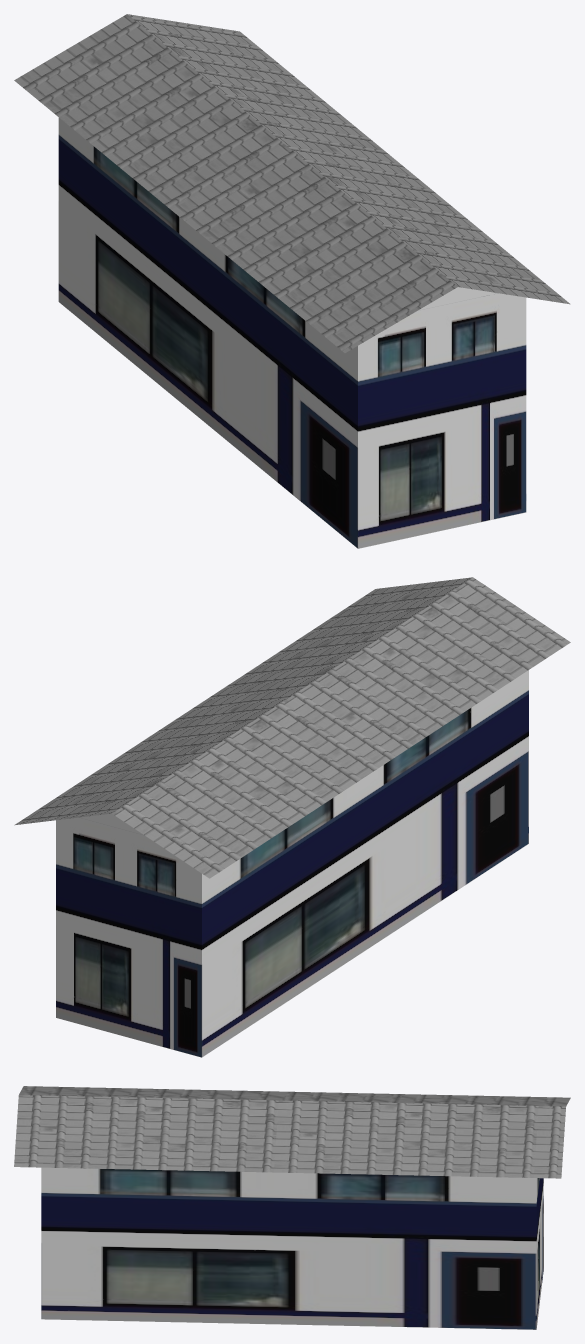
The picture shows the model from 3 angles, top to bottom: view 1: azimuth 30°, elevation 25°; view 2: azimuth 150°, elevation 25°; view 3: azimuth 270°, elevation 25°; orthographic projection. The views are drawn at different scales.
Visible parts, largest first — view 1: CityEngineMaterial_2_m, CityEngineMaterial_4_m; view 2: CityEngineMaterial_2_m, CityEngineMaterial_4_m; view 3: CityEngineMaterial_2_m, CityEngineMaterial_4_m.
Boxes of the visible parts, bbox=[...] form: CityEngineMaterial_2_m: bbox=[58, 117, 526, 548]; CityEngineMaterial_4_m: bbox=[14, 14, 570, 352]; CityEngineMaterial_2_m: bbox=[56, 670, 528, 1057]; CityEngineMaterial_4_m: bbox=[14, 577, 570, 878]; CityEngineMaterial_2_m: bbox=[41, 1167, 543, 1329]; CityEngineMaterial_4_m: bbox=[14, 1086, 570, 1178].
Bounding box in the file's own units: 8.41 × 8.22 × 21.4.
